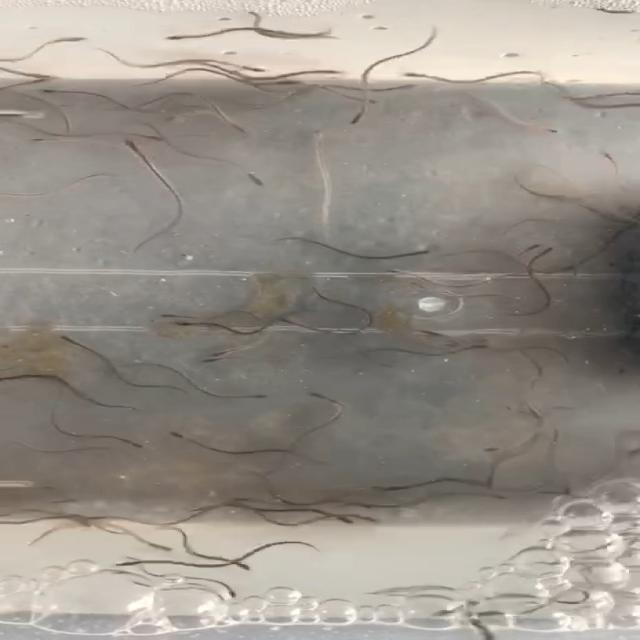active_glass_eel: (461, 341, 513, 360), (201, 350, 239, 369), (408, 245, 440, 267), (56, 328, 93, 347), (236, 178, 283, 192), (344, 108, 372, 130), (534, 124, 566, 142), (32, 70, 70, 85), (161, 427, 196, 443), (156, 29, 192, 44), (230, 558, 258, 577), (384, 262, 416, 278), (141, 134, 179, 147), (110, 138, 146, 151), (233, 61, 269, 74), (156, 307, 189, 321), (127, 438, 157, 453), (55, 36, 89, 49), (167, 318, 200, 331), (300, 386, 330, 400), (313, 64, 350, 75), (357, 512, 386, 526), (111, 557, 140, 571), (283, 77, 310, 92), (401, 72, 432, 85), (336, 518, 361, 534), (213, 591, 246, 603), (224, 121, 253, 134), (306, 126, 325, 145), (484, 439, 507, 454), (374, 479, 396, 494), (245, 388, 262, 406), (41, 87, 68, 98), (278, 314, 295, 330), (538, 246, 554, 261)
